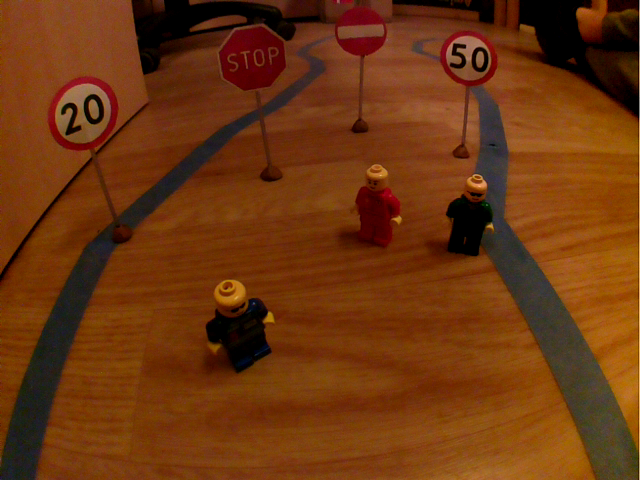Ograniczenie 20: (44, 71, 122, 157)
Ograniczenie 50: (436, 25, 502, 91)
Postac LEGO: (197, 272, 287, 381), (344, 157, 406, 254), (441, 163, 499, 265)
Stop: (211, 18, 291, 97)
Zakaz: (329, 2, 390, 61)
